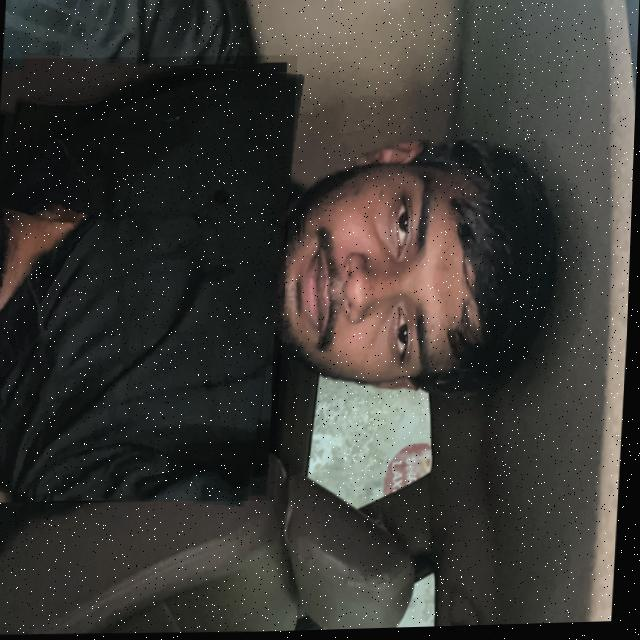no-seatbelt: (0, 50, 297, 507)
